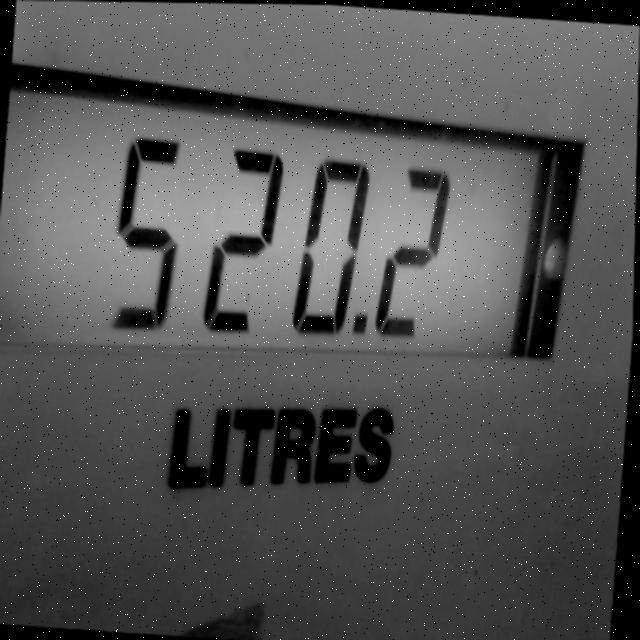.: (345, 293, 380, 348)
0: (292, 138, 372, 344)
2: (198, 118, 294, 338), (368, 153, 474, 352)
5: (95, 115, 199, 345)
